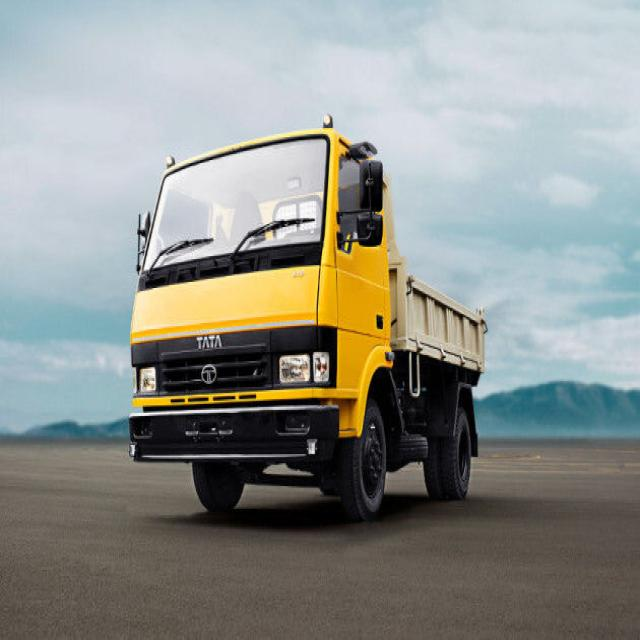dump_truck: (110, 117, 500, 532)
